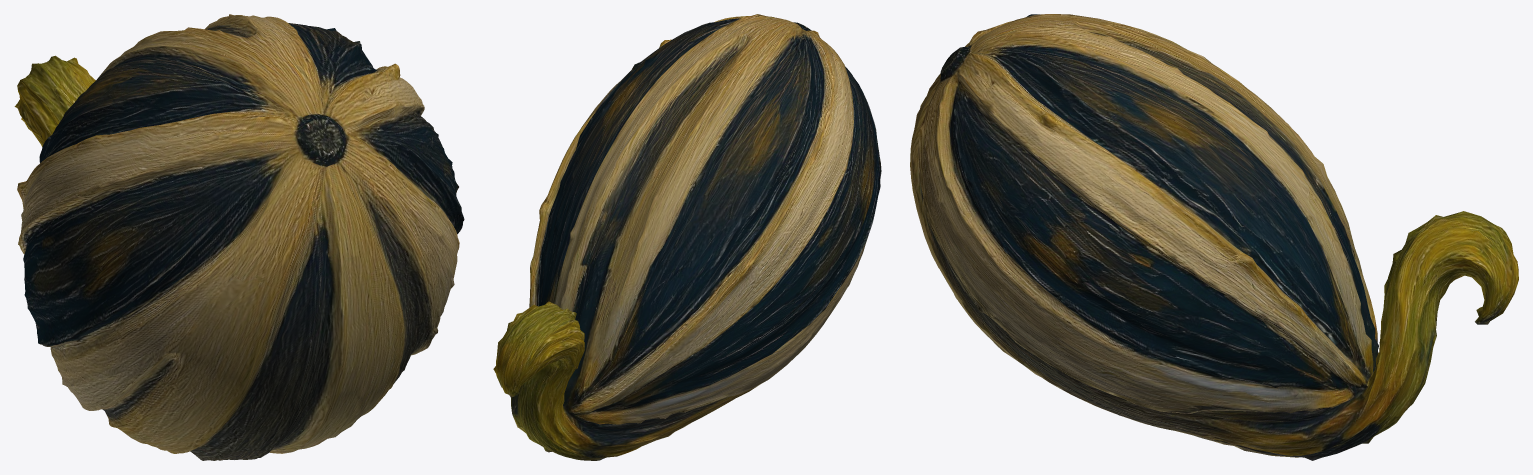
The model's file is seed+pod+3d+model+1k.glb.
3 views of the same model, side by side, from view 1: azimuth 30°, elevation 25°; view 2: azimuth 150°, elevation 25°; view 3: azimuth 270°, elevation 25° (orthographic). The views are drawn at different scales.
Parts seen in each view (by area): view 1: tripo_node_ad17db80-1a94-461a-832d-f9c3fe8746c2; view 2: tripo_node_ad17db80-1a94-461a-832d-f9c3fe8746c2; view 3: tripo_node_ad17db80-1a94-461a-832d-f9c3fe8746c2.
Part boxes in pixels (left/top/right/bottom): tripo_node_ad17db80-1a94-461a-832d-f9c3fe8746c2: left=14, top=14, right=464, bottom=460; tripo_node_ad17db80-1a94-461a-832d-f9c3fe8746c2: left=493, top=14, right=881, bottom=460; tripo_node_ad17db80-1a94-461a-832d-f9c3fe8746c2: left=910, top=14, right=1518, bottom=460.
Bounding box in the file's own units: 0.5724 × 0.7336 × 1.
1 material, 1 textured.
